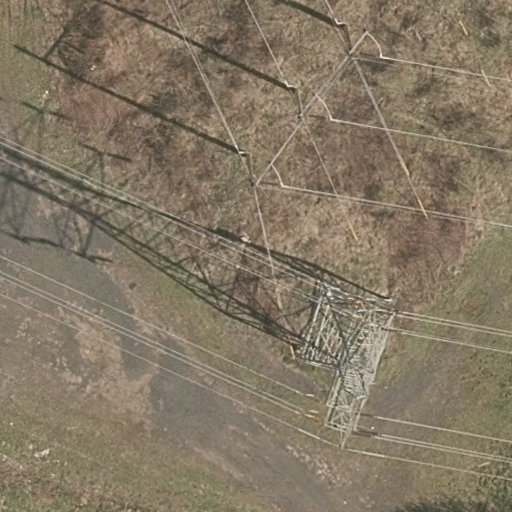DT: (235, 77, 320, 194), (293, 29, 365, 117)
TT: (274, 259, 402, 457)
